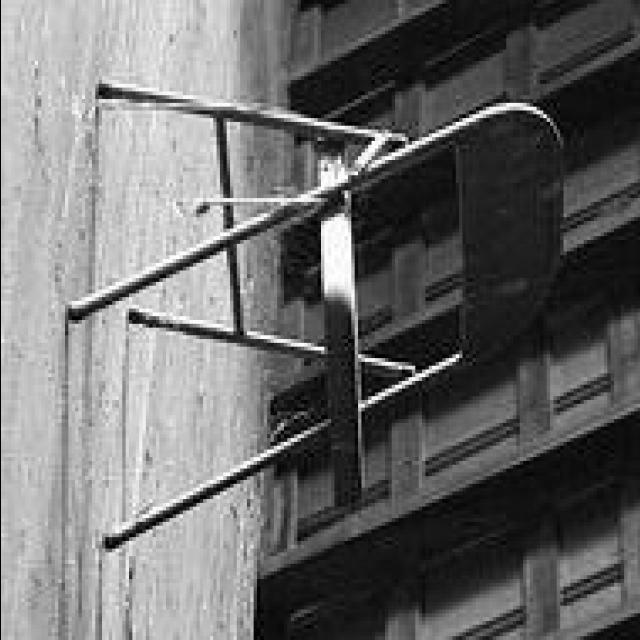chair: (62, 82, 560, 554)
